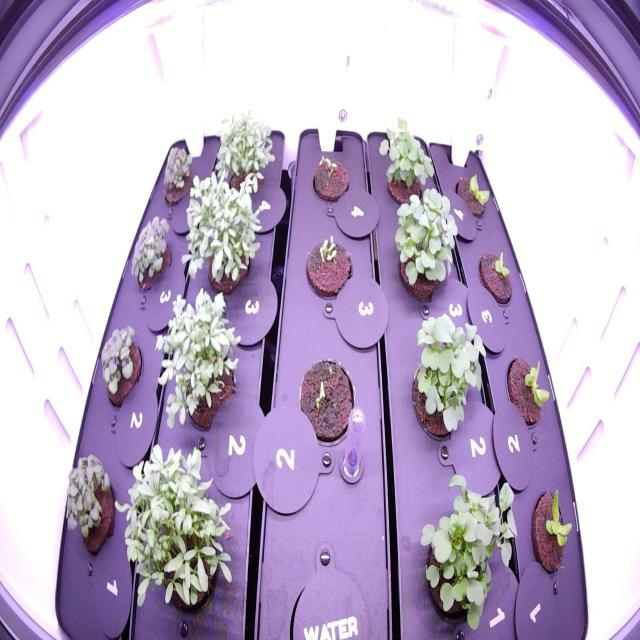germination: (289, 353, 360, 453), (299, 226, 357, 300), (306, 148, 354, 206)
young: (525, 480, 576, 587), (500, 346, 554, 436), (473, 243, 517, 316), (450, 165, 492, 224)
